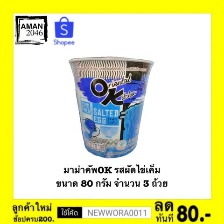paper_cup: (65, 50, 158, 162)
